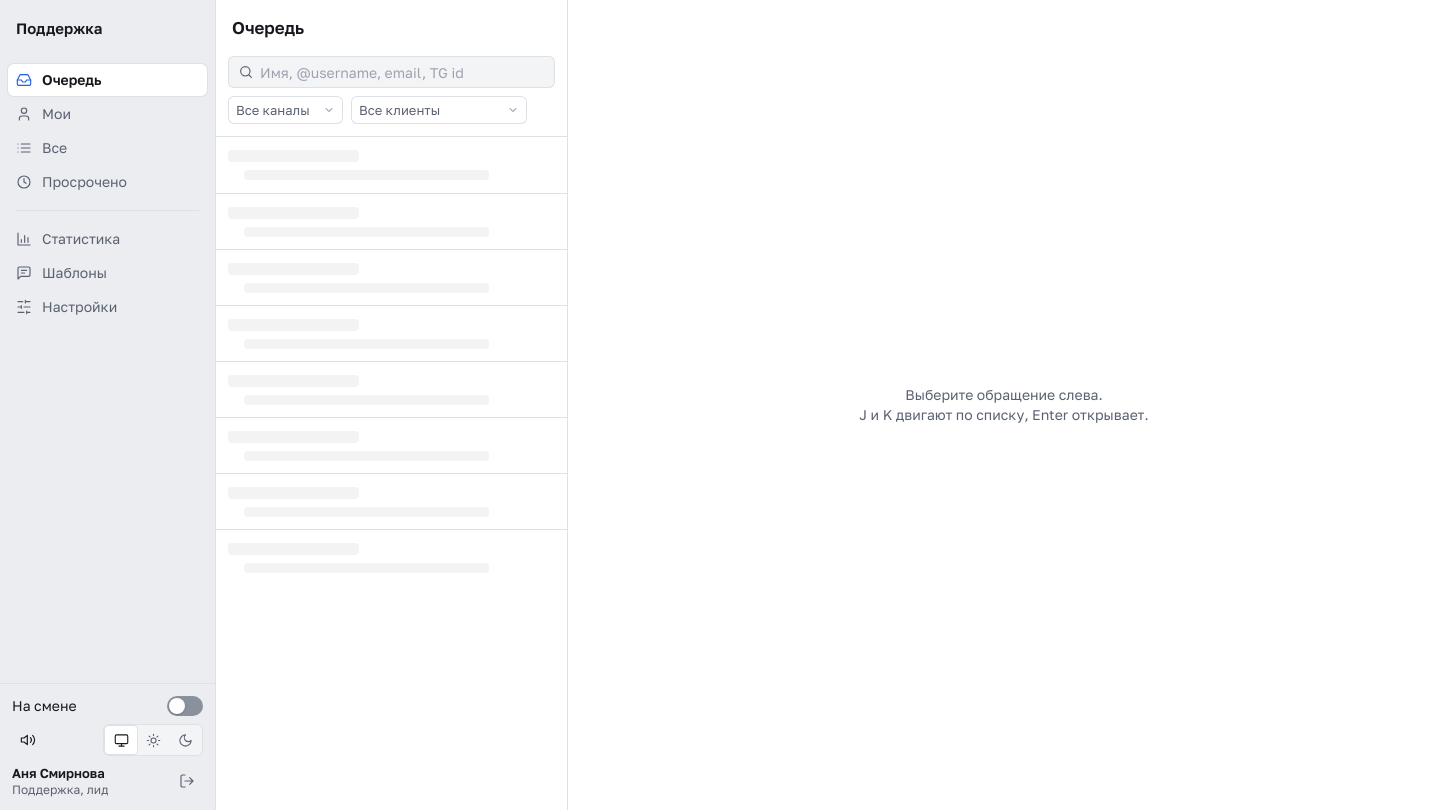
Test: Shell › rolls the switch back and says so when the server refuses
Click the switch named "На смене". click: (185, 706)
box: left=167, top=696, right=203, bottom=716
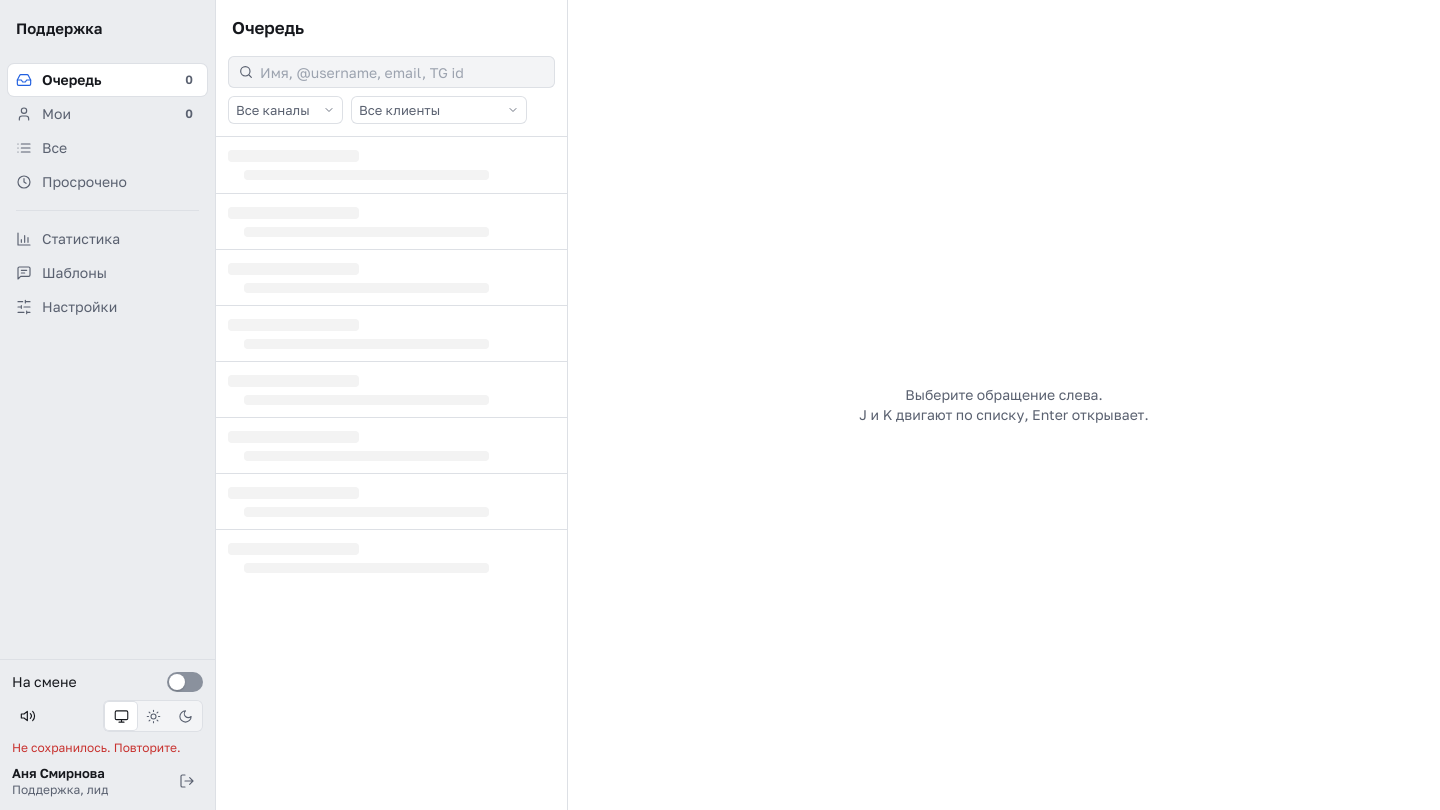
Expected: the message "Не сохранилось. Повторите." is shown, left=12, top=740, right=203, bottom=756
